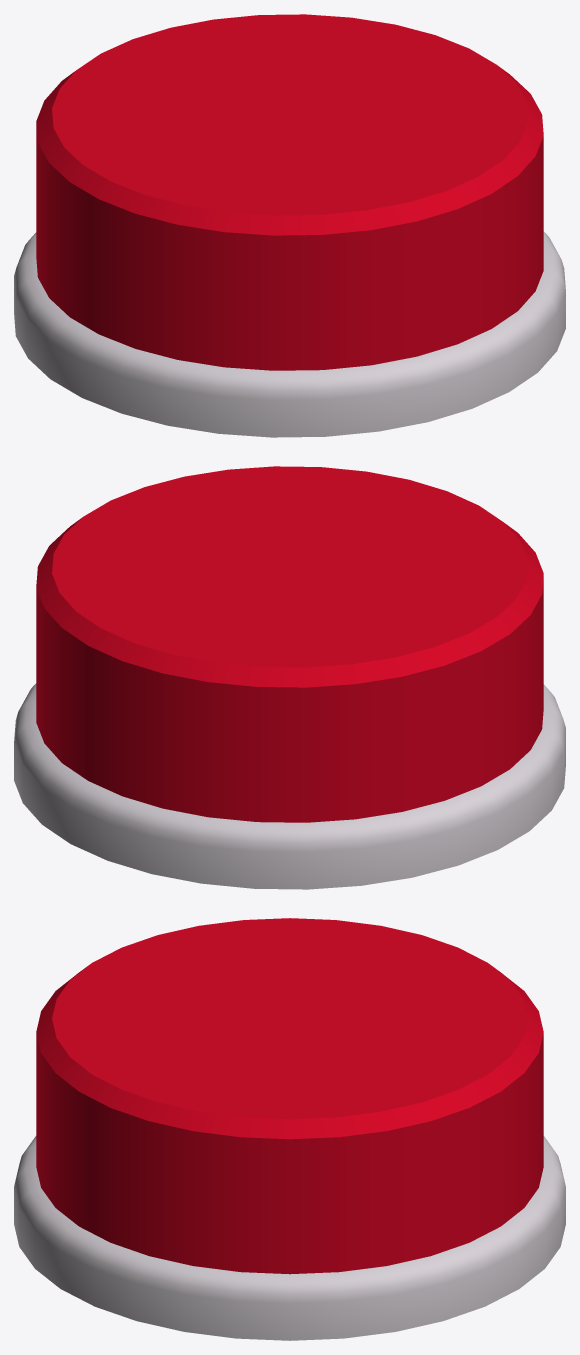
File: RedButton.fbx
3 renders of one model, top to bottom at view 1: azimuth 30°, elevation 25°; view 2: azimuth 150°, elevation 25°; view 3: azimuth 270°, elevation 25°, orthographic.
Parts seen in each view (by area): view 1: RedButton; view 2: RedButton; view 3: RedButton.
Boxes of the visible parts, bbox=[...] form: RedButton: bbox=[14, 14, 565, 437]; RedButton: bbox=[14, 466, 565, 889]; RedButton: bbox=[14, 918, 565, 1340].
Size of the model in its own units: 200 by 82.16 by 200.
